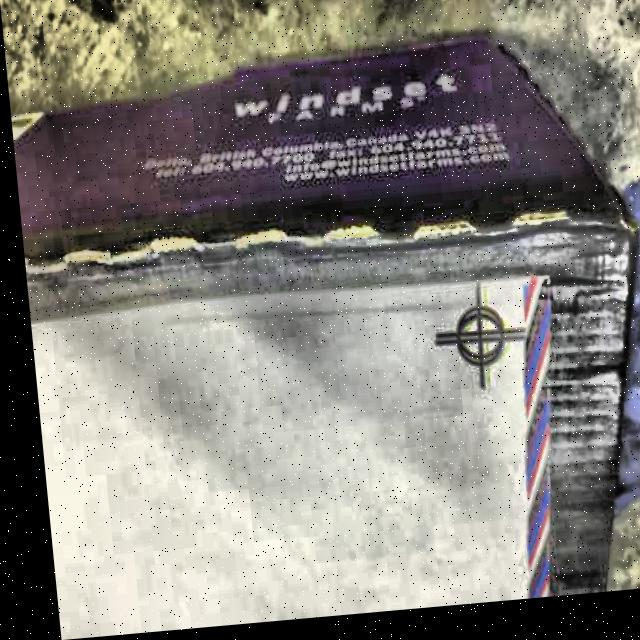cardboard: (9, 20, 640, 640)
